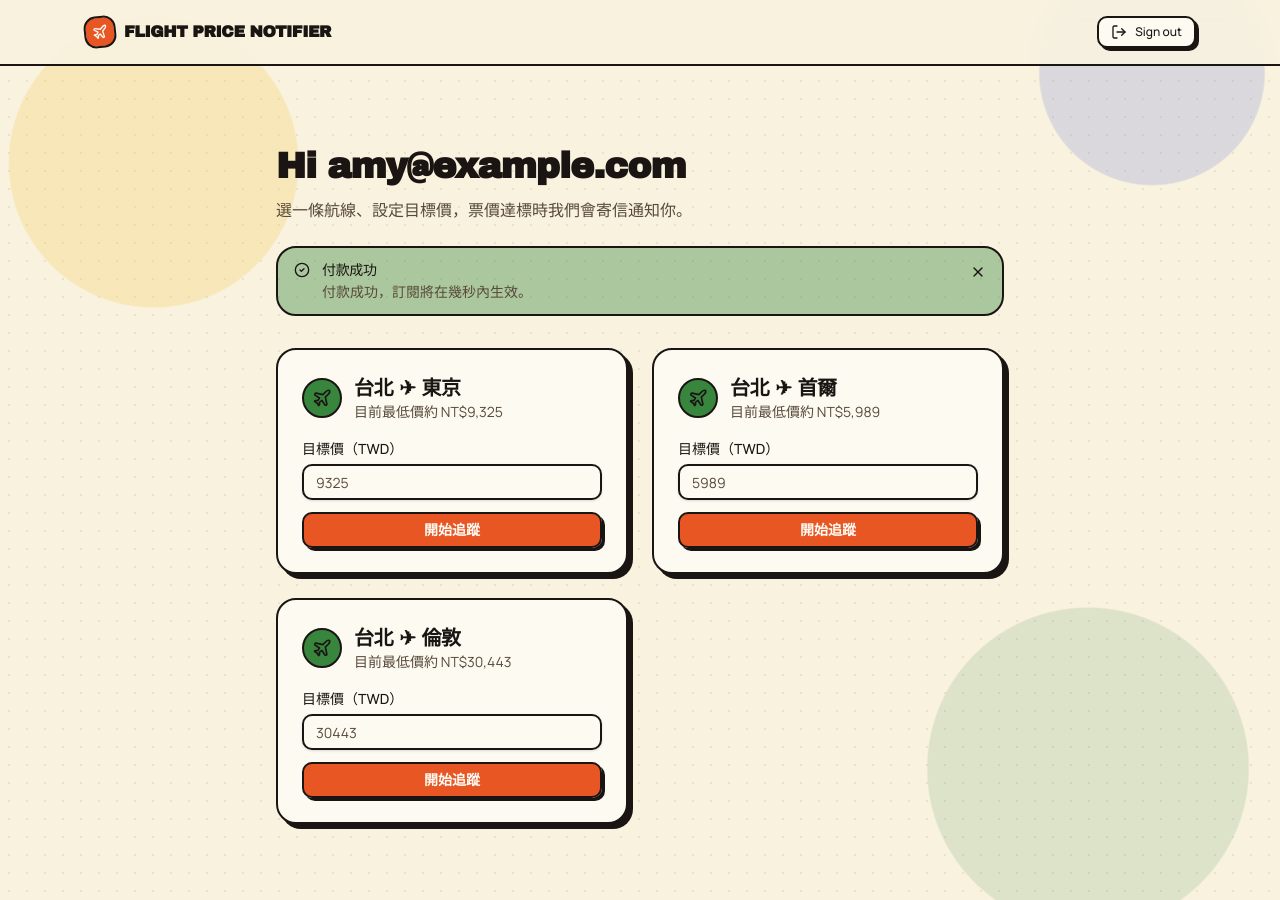
Dashboard purchase notice › can be dismissed
Click the button named "關閉通知" at point(978, 272), box [966,260,990,284]
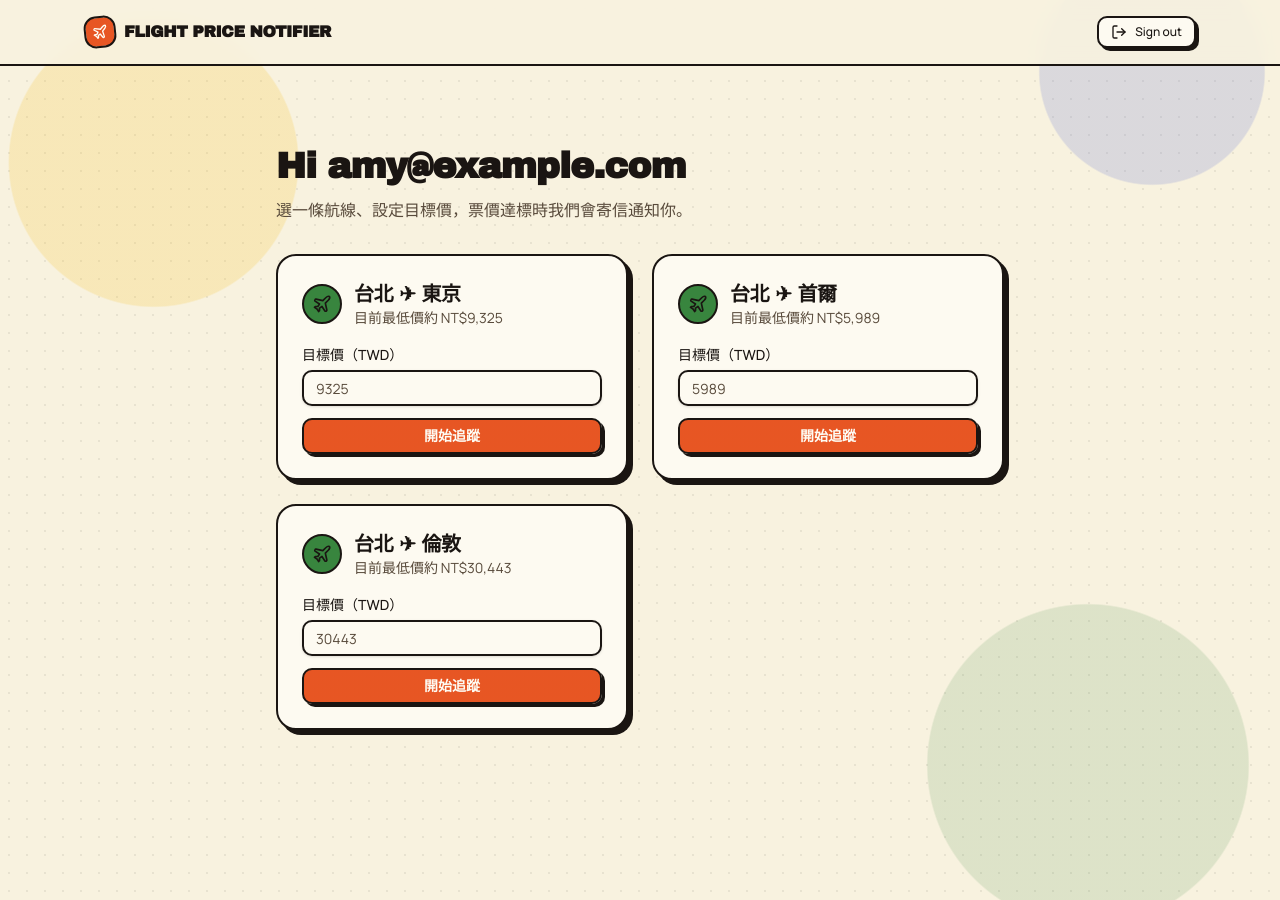
Expected: the heading "付款成功" is gone
